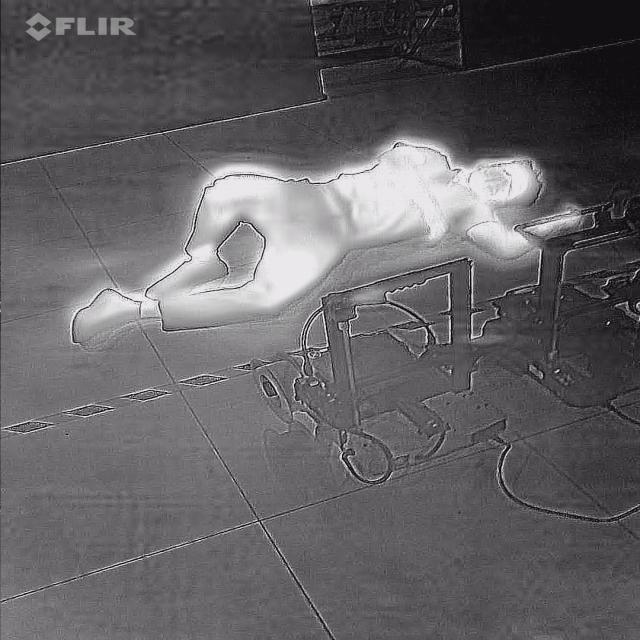Victim: (59, 130, 585, 350)
